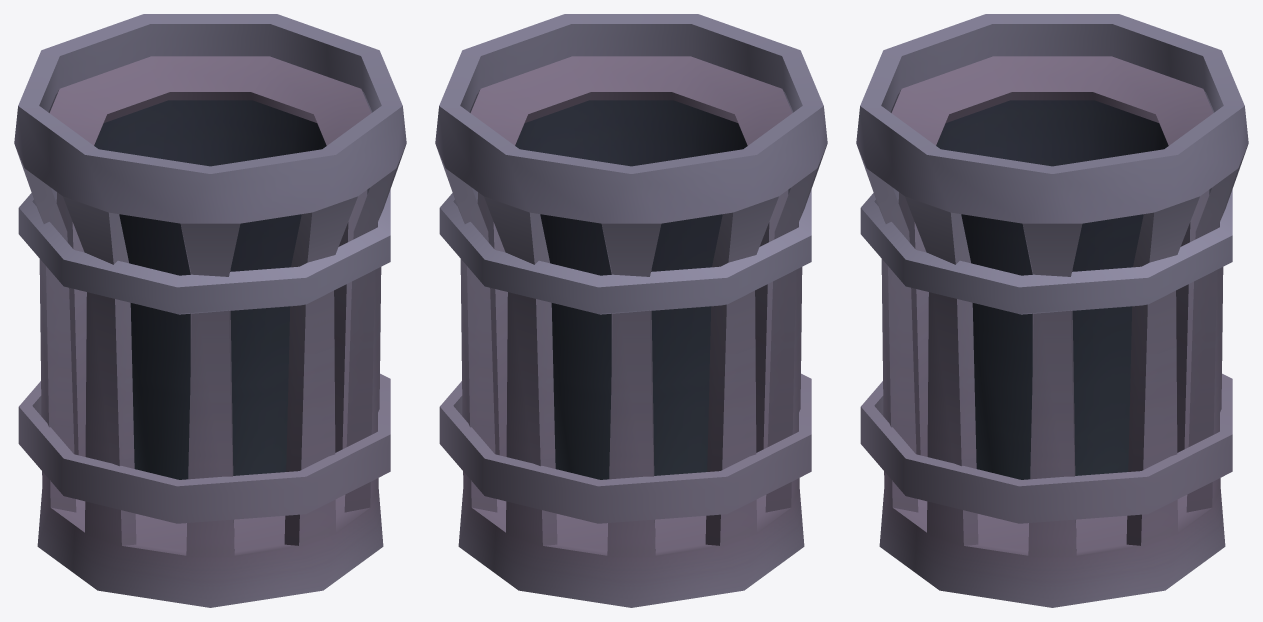
The model's file is Trashbin_1_B.glb.
The picture shows the model from 3 angles, left to right: view 1: azimuth 30°, elevation 25°; view 2: azimuth 150°, elevation 25°; view 3: azimuth 270°, elevation 25°; orthographic projection.
Parts seen in each view (by area): view 1: Trashbin_1_B; view 2: Trashbin_1_B; view 3: Trashbin_1_B.
Part boxes in pixels (<box>): Trashbin_1_B: <box>14,14,406,607</box>; Trashbin_1_B: <box>435,14,827,607</box>; Trashbin_1_B: <box>856,14,1248,607</box>.
Bounding box in the file's own units: 0.4456 × 0.5604 × 0.4508.
2 materials, 2 textured.
